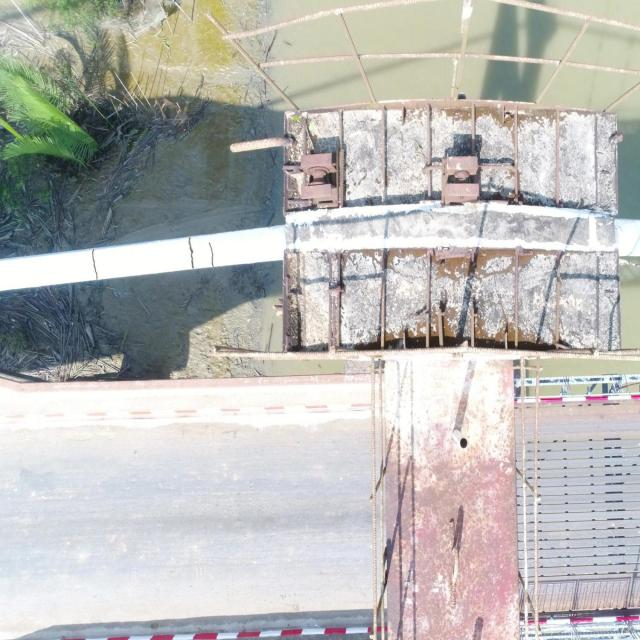crack: (187, 237, 195, 269), (91, 249, 98, 280), (208, 242, 214, 267)
